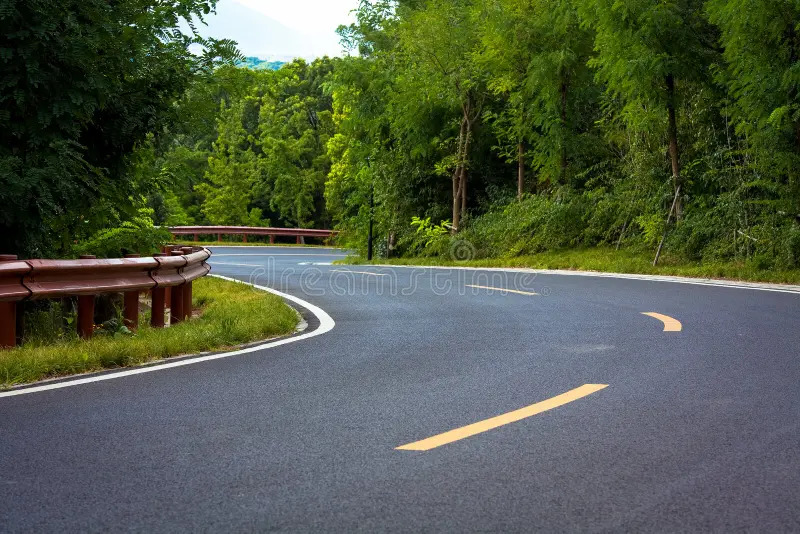leftTrun: (291, 251, 789, 516)
